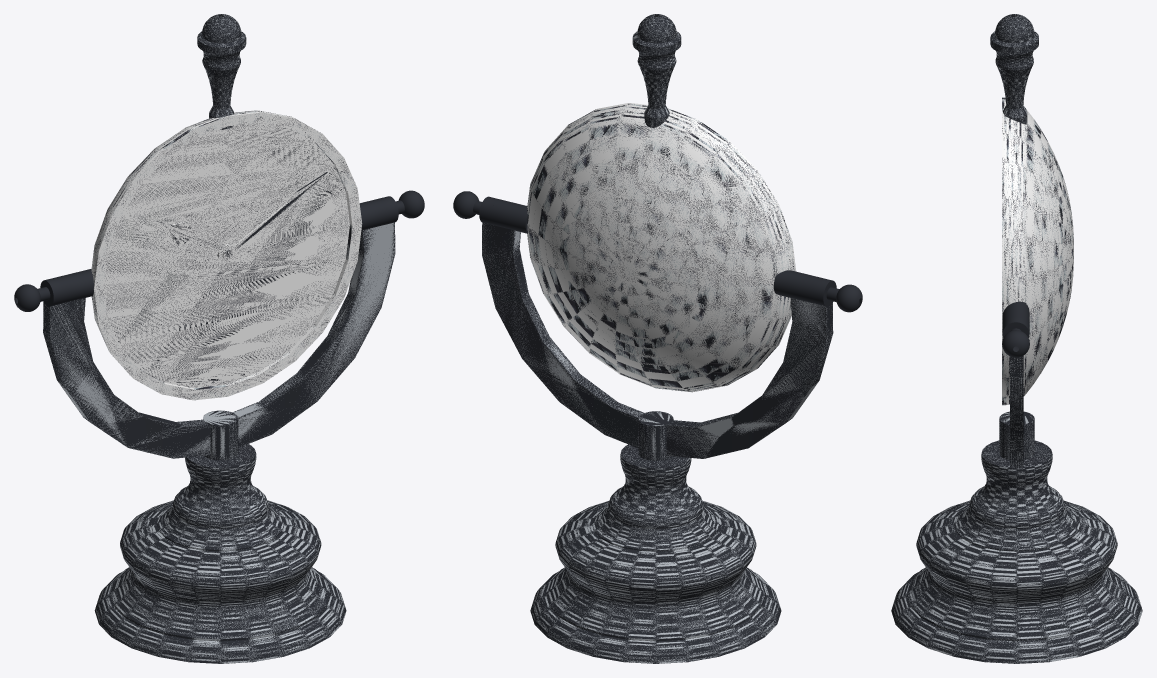
The model's file is prop_horloge_meuble.fbx.
3 views of the same model, side by side, from view 1: azimuth 30°, elevation 25°; view 2: azimuth 150°, elevation 25°; view 3: azimuth 270°, elevation 25° (orthographic).
Visible parts, largest first — view 1: Group1, Group2, Group6, Group5, Group3, Group4; view 2: Group1, Group2, Group6, Group5, Group3, Group4; view 3: Group2, Group1, Group5, Group6, Group4.
Part boxes in pixels (x1,y1,x2,y2): Group1: (91, 110, 362, 400); Group2: (94, 410, 346, 663); Group6: (43, 222, 395, 458); Group5: (197, 14, 246, 129); Group3: (14, 269, 93, 311); Group4: (359, 190, 424, 230); Group1: (527, 103, 796, 392); Group2: (530, 411, 781, 663); Group6: (482, 222, 833, 458); Group5: (632, 14, 681, 127); Group3: (773, 270, 862, 312); Group4: (453, 191, 527, 233); Group2: (891, 411, 1142, 663); Group1: (1002, 97, 1073, 405); Group5: (990, 14, 1038, 124); Group6: (1010, 355, 1023, 467); Group4: (1002, 301, 1029, 357).
Bounding box in the file's own units: 0.2299 × 0.3226 × 0.1236.
